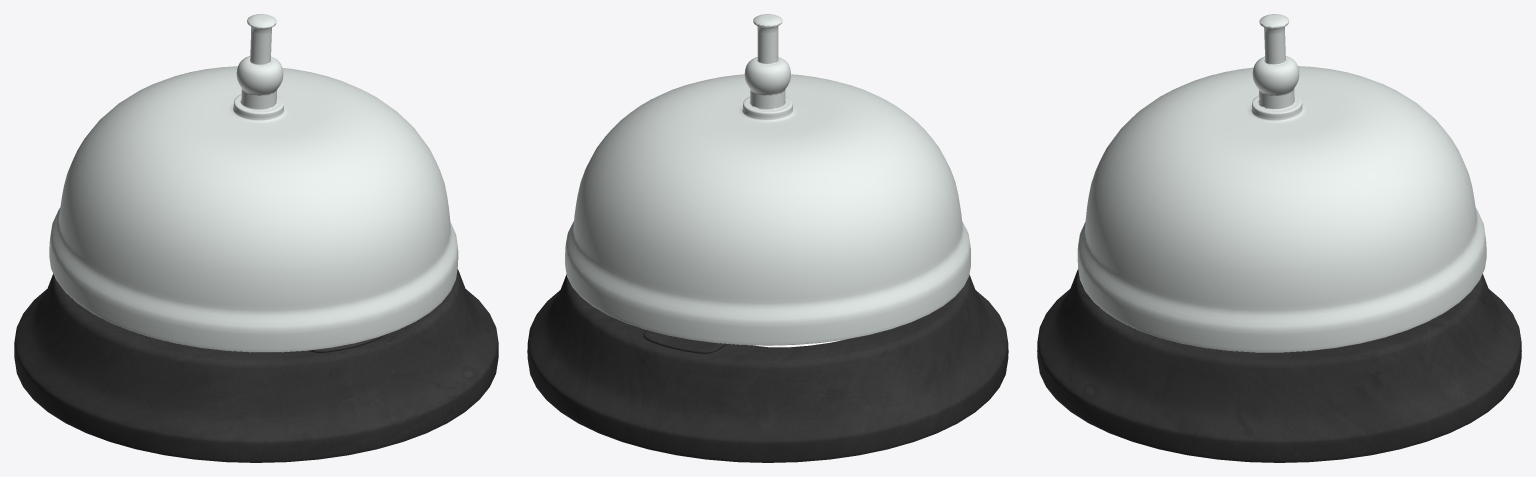
Rendered from worn_service_ring_bell.glb.
The picture shows the model from 3 angles, left to right: view 1: azimuth 30°, elevation 25°; view 2: azimuth 150°, elevation 25°; view 3: azimuth 270°, elevation 25°; orthographic projection.
Parts seen in each view (by area): view 1: Object_3, Object_2; view 2: Object_3, Object_2; view 3: Object_3, Object_2.
Part boxes in pixels (left/top/right/bottom): Object_3: left=49, top=14, right=458, bottom=352; Object_2: left=14, top=269, right=498, bottom=462; Object_3: left=565, top=14, right=970, bottom=345; Object_2: left=527, top=274, right=1008, bottom=462; Object_3: left=1077, top=14, right=1486, bottom=352; Object_2: left=1037, top=269, right=1521, bottom=462.
Size of the model in its own units: 0.0791 by 0.0621 by 0.0791.
Materials: 2 (1 with a texture image).
